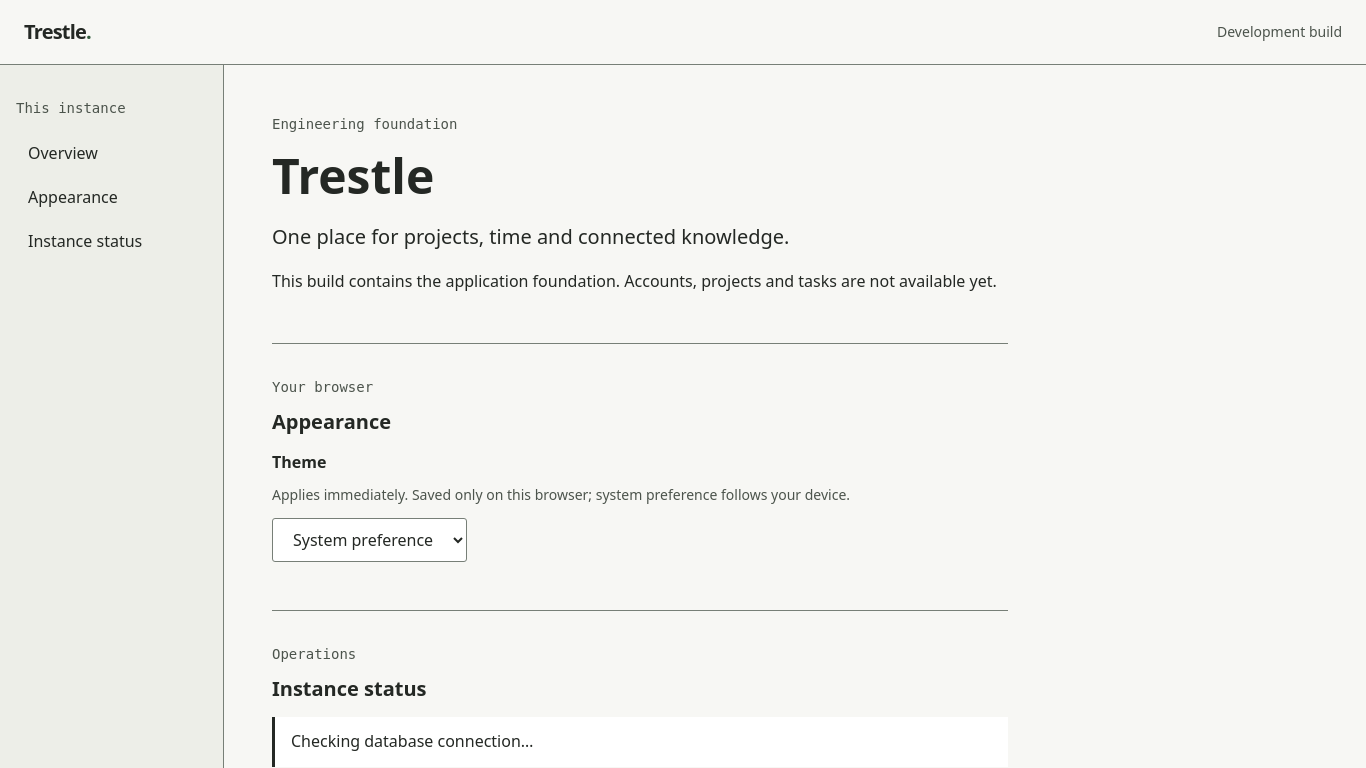
Test: failed preference writes apply temporarily and recover on another change
The image size is (1366, 768).
Step 1. Select "Dark" in the dropdown labelled "Theme" → (370, 540), box [272, 518, 467, 562]
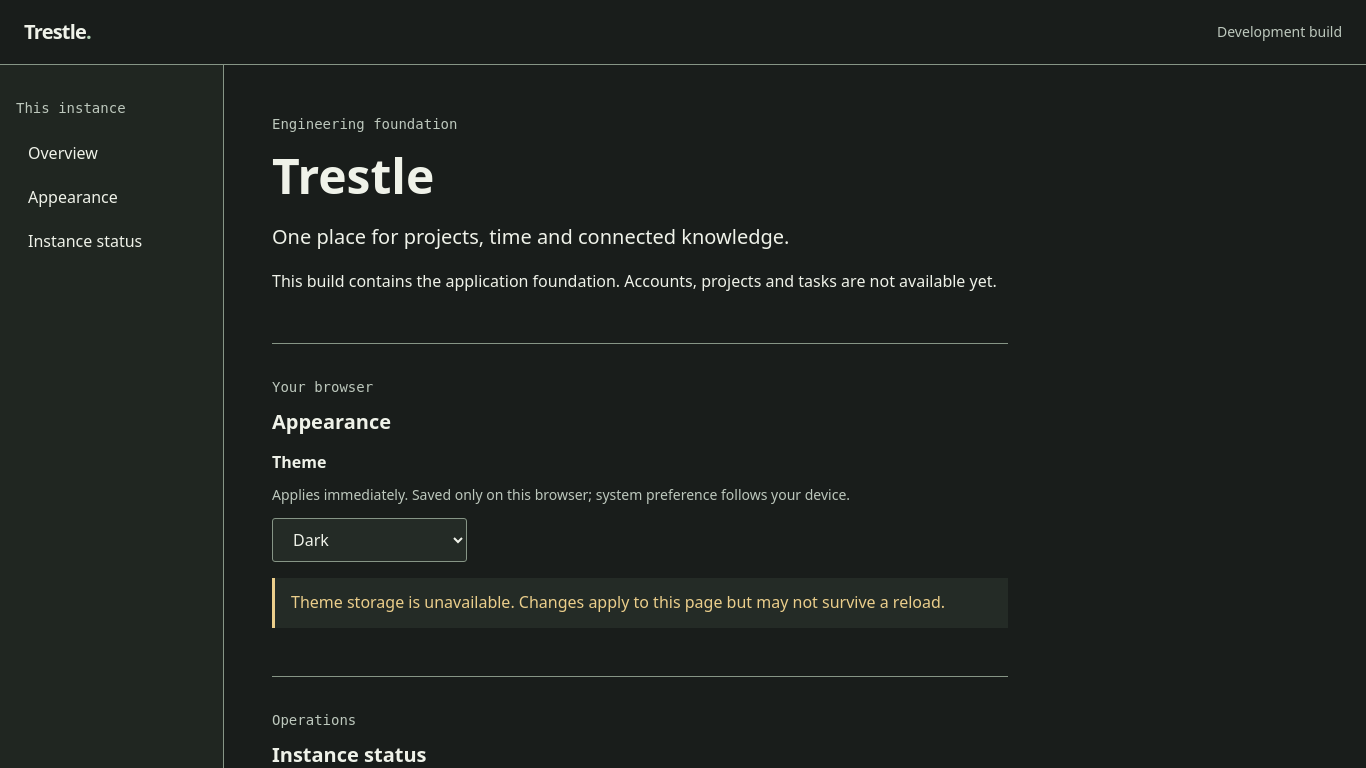
Step 2. Select "Light" in the dropdown labelled "Theme" → (370, 540), box [272, 518, 467, 562]
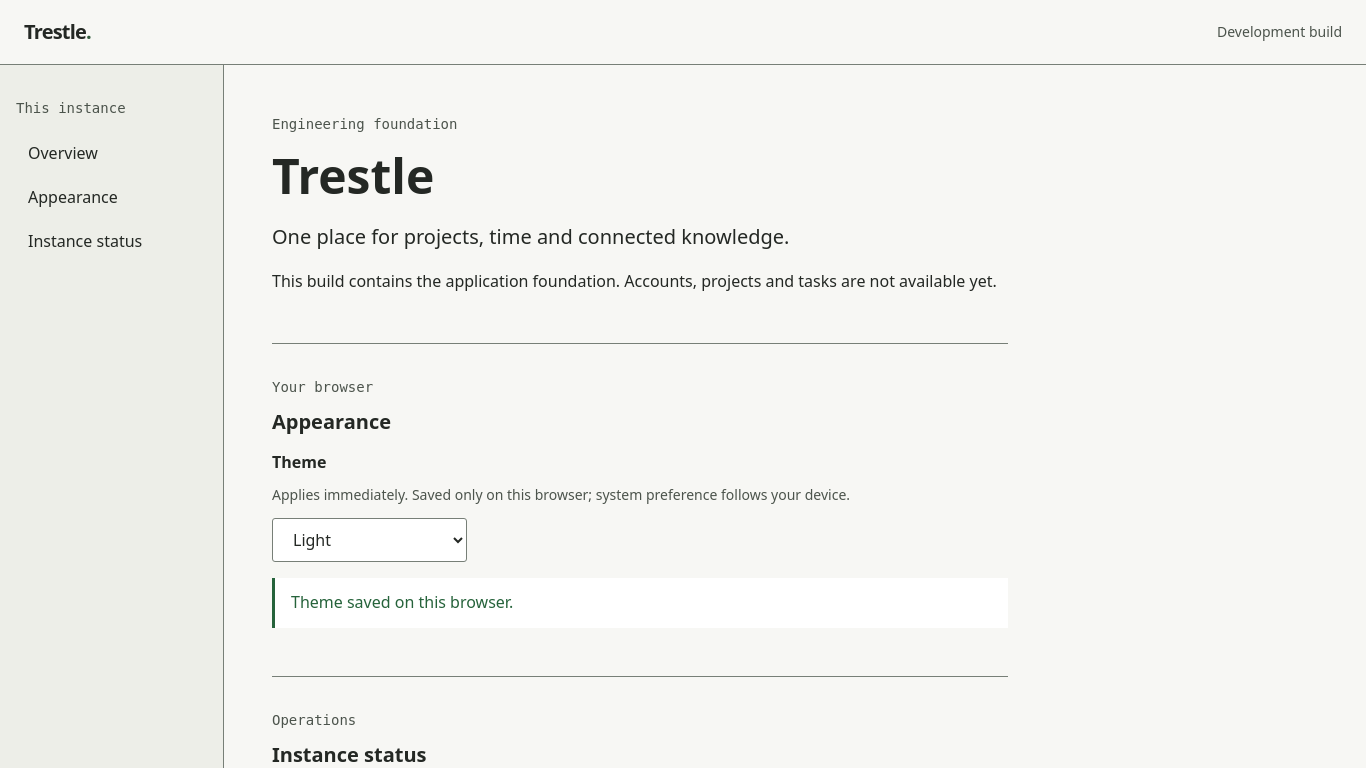
Expected: the text "Theme saved on this browser." is shown, [272, 578, 1008, 628]
